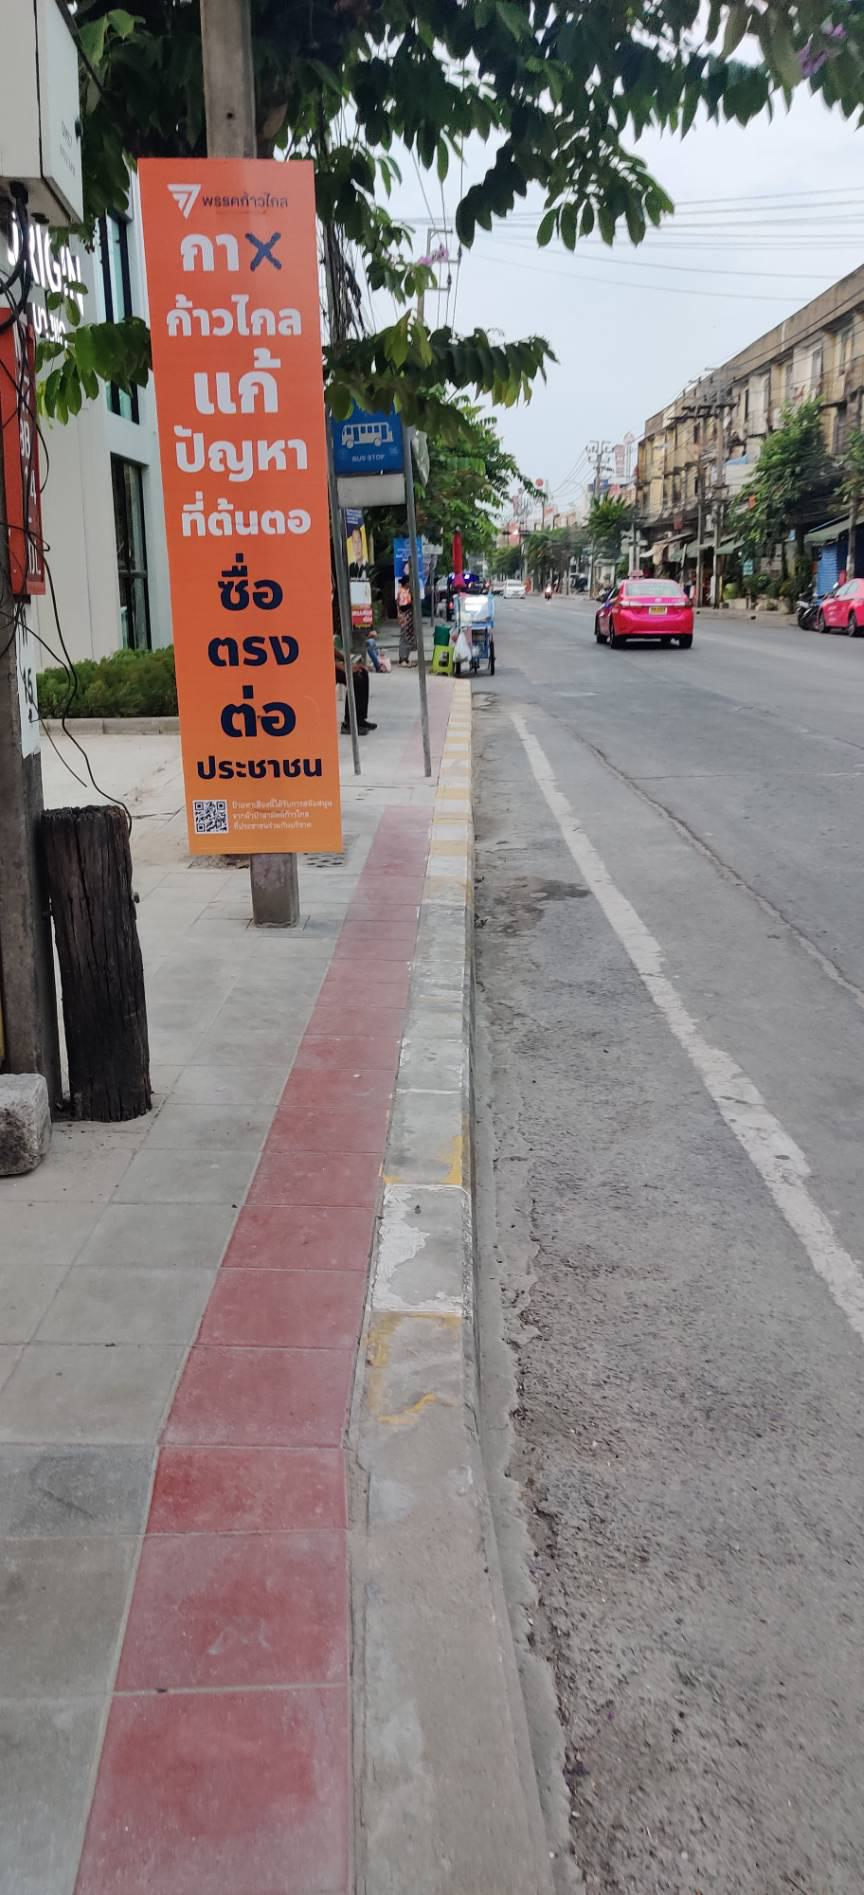Banner: (138, 166, 334, 857)
